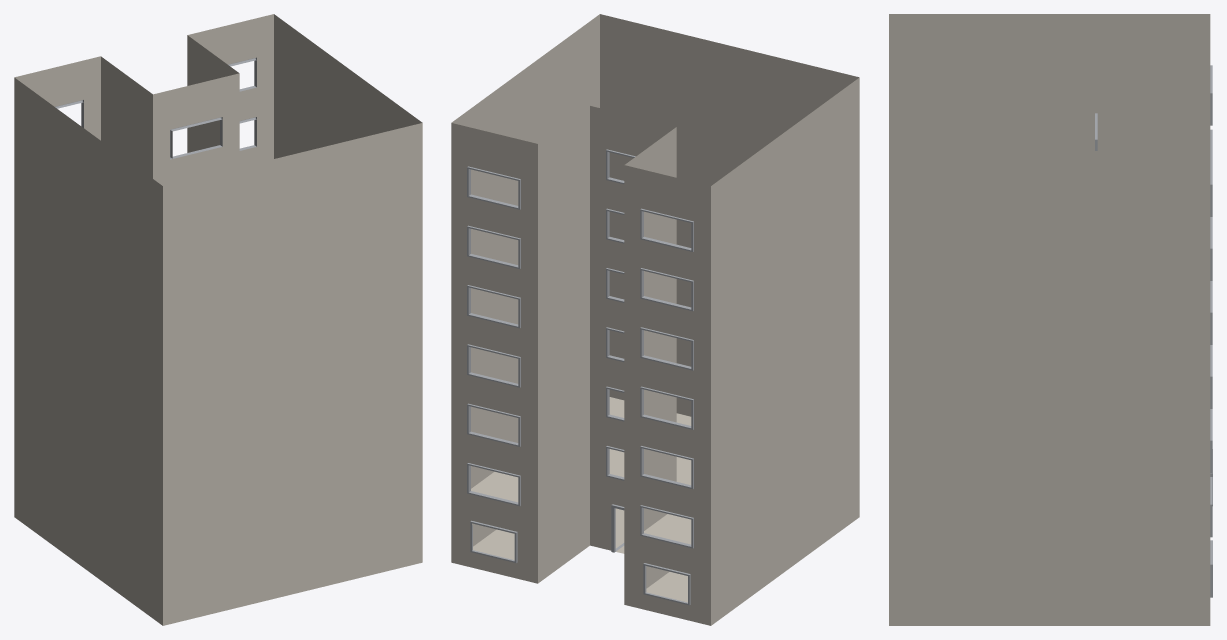
Rendered from Bld_R_med_L5_C.fbx.
3 renders of one model, left to right at view 1: azimuth 30°, elevation 25°; view 2: azimuth 150°, elevation 25°; view 3: azimuth 270°, elevation 25°, orthographic. The views are drawn at different scales.
Parts seen in each view (by area): view 1: Bld_R_med_L5_C_LOD0; view 2: Bld_R_med_L5_C_LOD0; view 3: Bld_R_med_L5_C_LOD0.
Part boxes in pixels (x1=…): Bld_R_med_L5_C_LOD0: x1=14, y1=14, x2=422, y2=625; Bld_R_med_L5_C_LOD0: x1=451, y1=14, x2=859, y2=625; Bld_R_med_L5_C_LOD0: x1=889, y1=14, x2=1212, y2=625.
Size of what is drawn, in the model's own units: 2214 by 3870 by 2207.
1 material, 1 textured.
